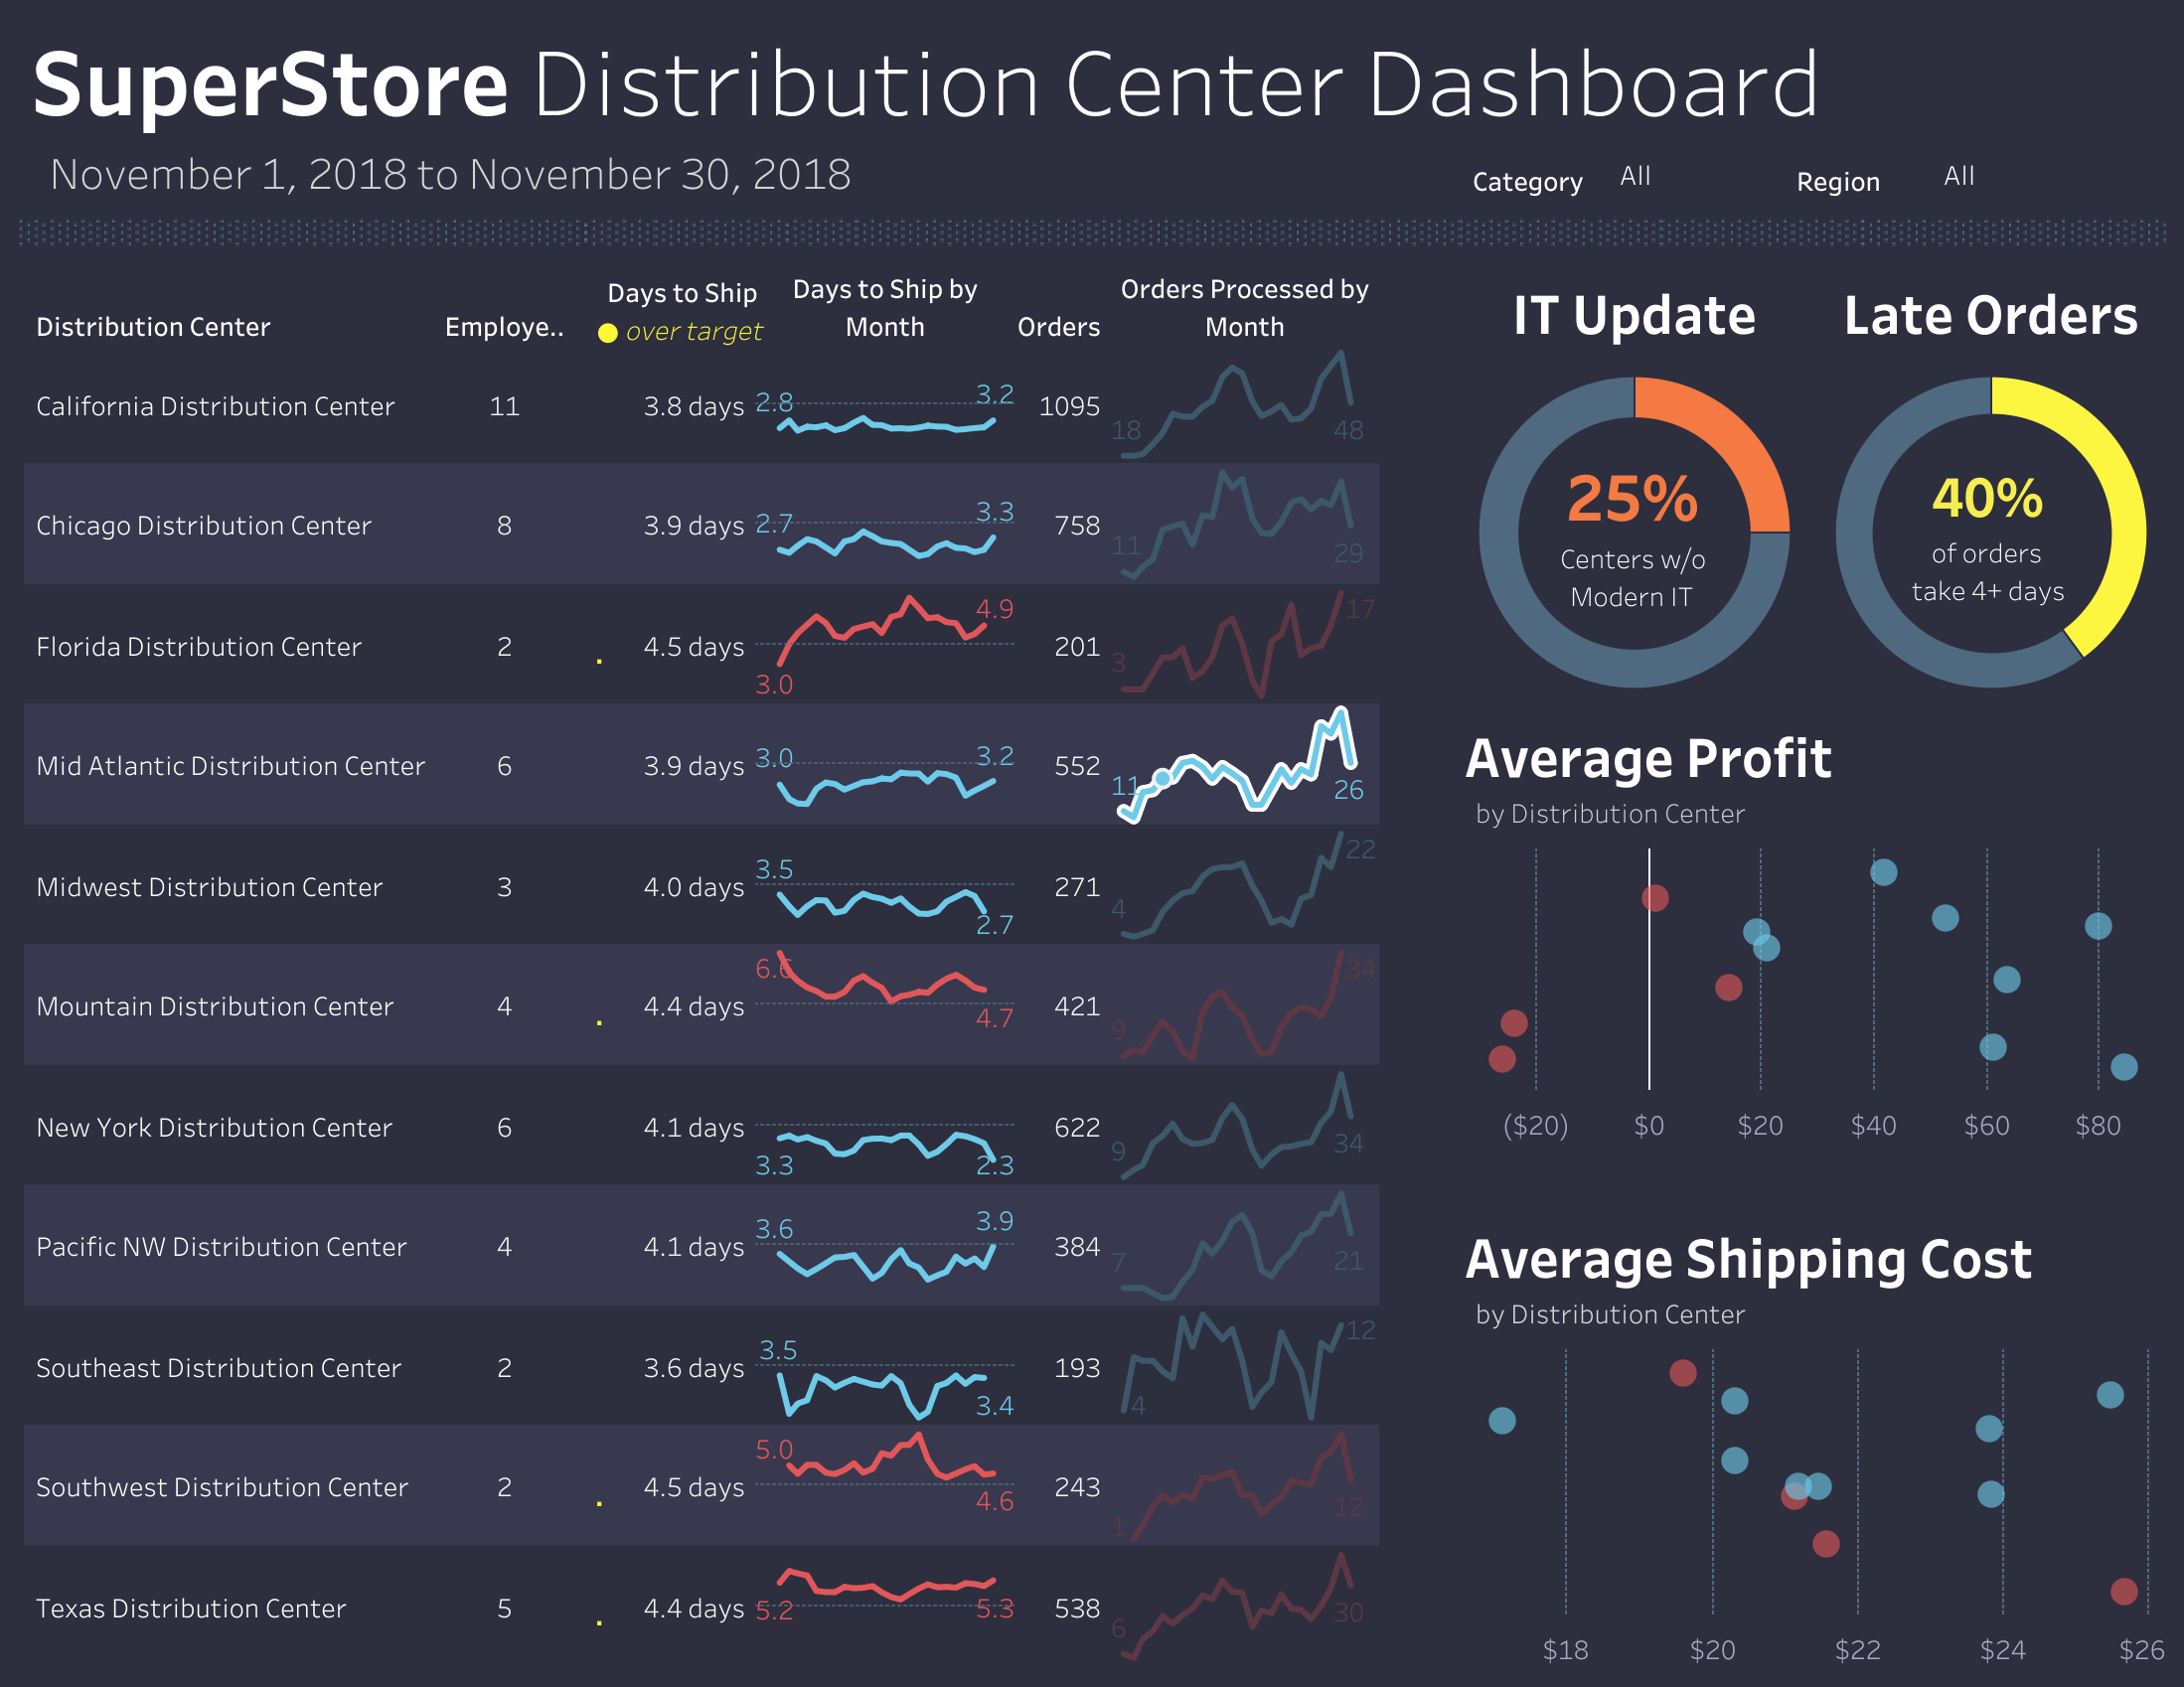

Layout of this report page (visuals, bound fields, positions):
{"tool":"tableau","page":{"name":"4 Bottom Up Dashboard","canvas":[1100,850],"ordinal":3},"visuals":[{"type":"text","box":[8,8,1084,120]},{"type":"filter","title":"Distribution Center Details1 (2)","param":"[Sample - Superstore].[none:Category:nk]","box":[741,78,164,24]},{"type":"filter","title":"Distribution Center Details1 (2)","param":"[Sample - Superstore].[none:Region:nk]","box":[904,78,189,24]},{"type":"image","param":"Image/Border5.png","box":[8,110,1083,16]},{"type":"worksheet","title":"Distribution Center Details1","mark":"Automatic","rows":["Calculation_737112606416109569","Calculation_737112606633160716","Calculation_737112606418759683","Calculation_737112606631477258"],"cols":["Order Date"],"box":[8,128,503,714]},{"type":"worksheet","title":"Distribution Center Details1 (2)","mark":"Automatic","rows":["Calculation_737112606631673867","Calculation_737112606417661954"],"cols":["Order Date"],"box":[511,128,186.9,714]},{"type":"blank","box":[697.9,128,35,714]},{"type":"worksheet","title":"Bad Centers","mark":"Pie","cols":["Calculation_737112606073806848","Calculation_737112606073806848"],"box":[732.9,128,179.5,227]},{"type":"worksheet","title":"Late Orders","mark":"Pie","cols":["Calculation_737112606073806848","Calculation_737112606073806848"],"box":[912.5,128,179.5,227]},{"type":"text","box":[294,135,99,42]},{"type":"worksheet","title":"Profit Distro","mark":"Circle","rows":["Calculation_737112606643990542"],"cols":["Profit"],"box":[732.9,355,359.1,220]},{"type":"blank","box":[732.9,575,359.1,32]},{"type":"worksheet","title":"Shpping Distro","mark":"Circle","rows":["Calculation_737112606643990542"],"cols":["Costs (copy)"],"box":[732.9,607,359.1,235]}]}

Visuals, with their boxes in screenshot pixels (x1, y1, x2, y2), scaled from the page's 1100x850 canvas onto the 2184x1687 screenshot:
text: region(16, 16, 2168, 254)
"Distribution Center Details1 (2)" filter: region(1472, 155, 1796, 203)
"Distribution Center Details1 (2)" filter: region(1794, 155, 2170, 203)
image: region(16, 219, 2166, 250)
"Distribution Center Details1" worksheet: region(16, 254, 1014, 1671)
"Distribution Center Details1 (2)" worksheet: region(1014, 254, 1386, 1671)
blank: region(1386, 254, 1455, 1671)
"Bad Centers" worksheet (Pie marks): region(1455, 254, 1811, 704)
"Late Orders" worksheet (Pie marks): region(1811, 254, 2168, 704)
text: region(583, 268, 780, 352)
"Profit Distro" worksheet (Circle marks): region(1455, 704, 2168, 1142)
blank: region(1455, 1142, 2168, 1205)
"Shpping Distro" worksheet (Circle marks): region(1455, 1205, 2168, 1671)
